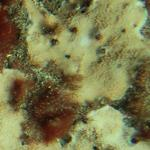dead: (1, 1, 146, 147)
